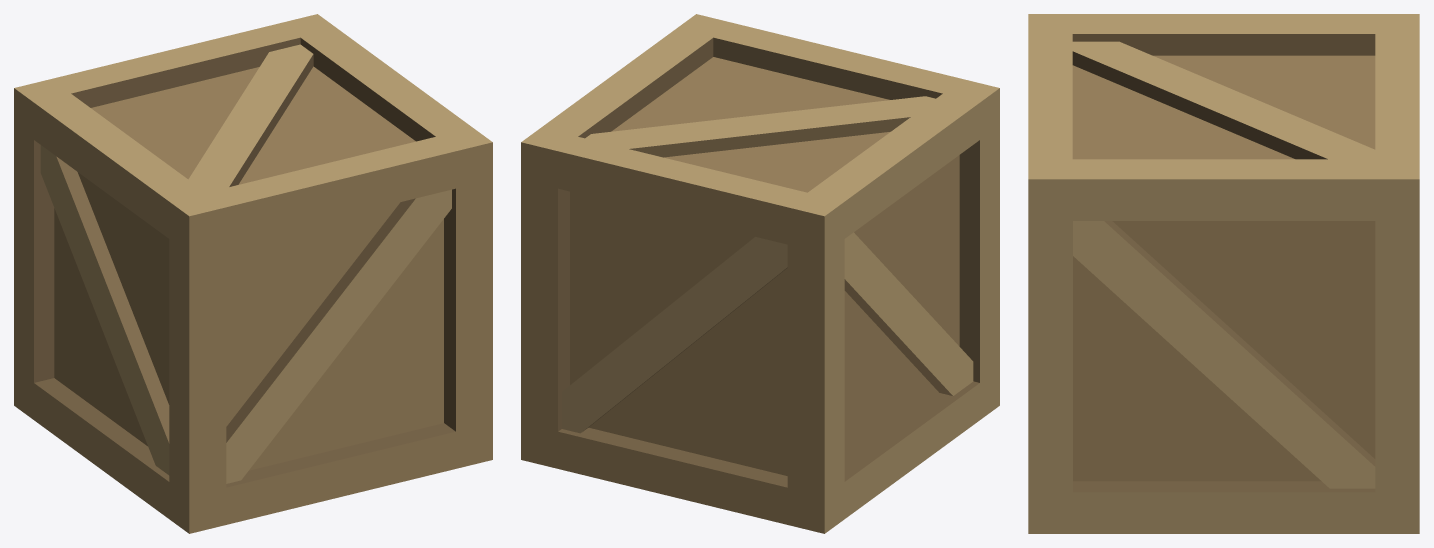
The model's file is Crate_Automatic.fbx.
3 renders of one model, left to right at view 1: azimuth 30°, elevation 25°; view 2: azimuth 150°, elevation 25°; view 3: azimuth 270°, elevation 25°, orthographic. The views are drawn at different scales.
Visible parts, largest first — view 1: SM_Prop_Crate_01; view 2: SM_Prop_Crate_01; view 3: SM_Prop_Crate_01.
Boxes of the visible parts, x1=… form: SM_Prop_Crate_01: x1=14, y1=14, x2=492, y2=533; SM_Prop_Crate_01: x1=521, y1=14, x2=999, y2=533; SM_Prop_Crate_01: x1=1028, y1=14, x2=1419, y2=533.
Size of the model in its own units: 0.9999 by 0.9999 by 0.9999.
1 material, 1 textured.
